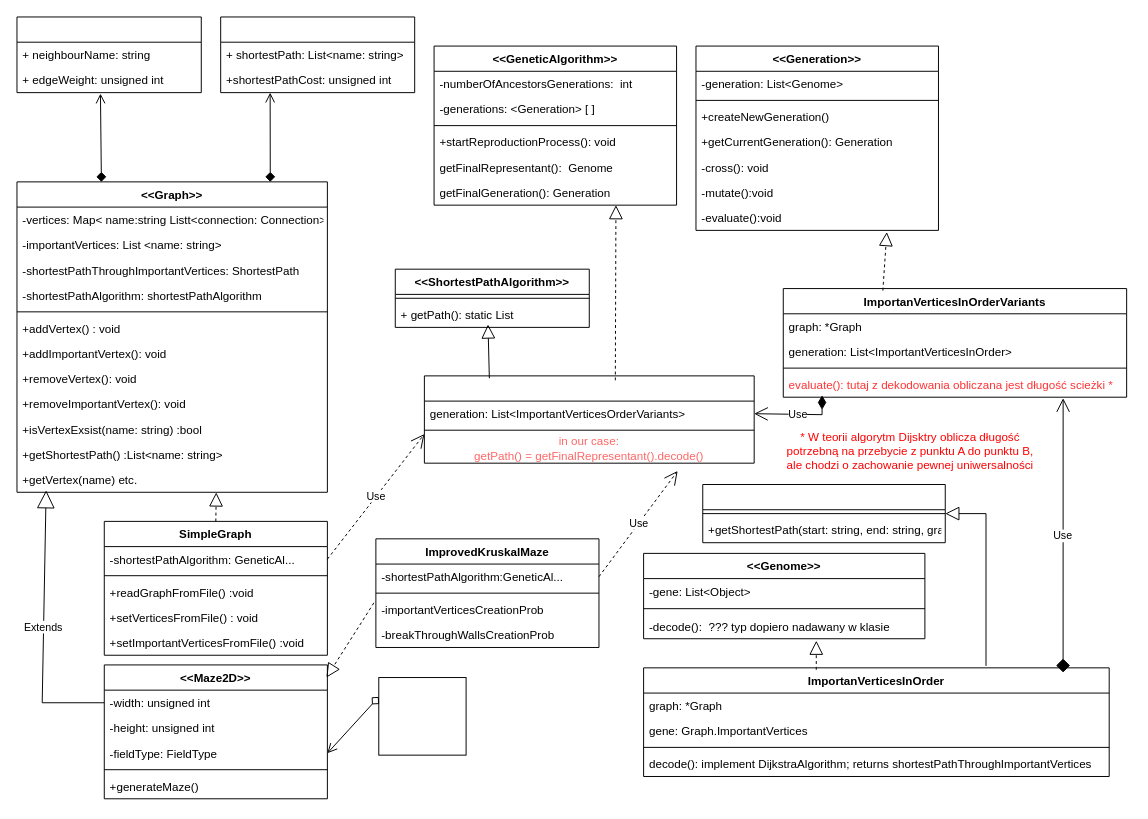
The diagram is 1148 pixels wide and 819 high, and some of its shapes have lost their labels. Each missing label, with the box of its shape:
<<enumeration>> FieldType + square: 4 + hexagon: 6: (378, 677, 466, 755)
Connection :struct: (16, 16, 201, 93)
DijkstraAlgorithm: (702, 484, 945, 543)
GeneticAlgorithmForTravelingSalesmanProblem: (423, 375, 754, 463)
ShortestPath :struct: (220, 16, 415, 93)
